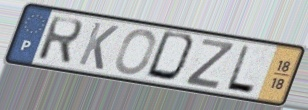D: (143, 29, 200, 85)
K: (75, 20, 121, 72)
L: (224, 43, 257, 96)
O: (112, 28, 158, 76)
R: (35, 14, 85, 66)
Z: (183, 37, 237, 91)
